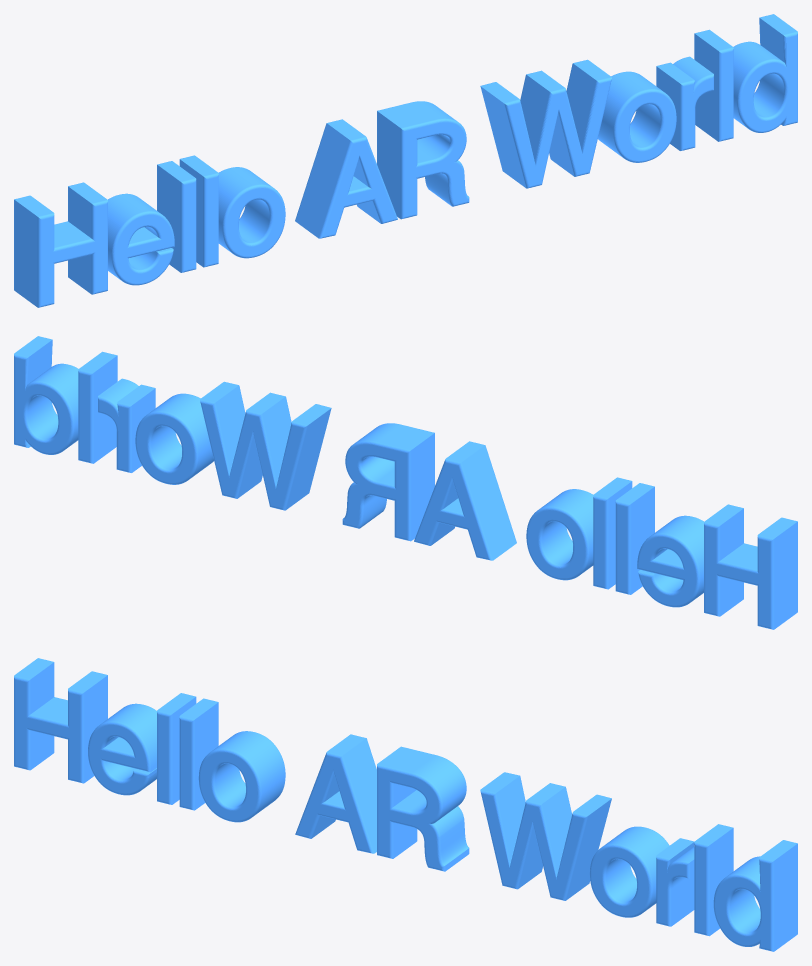
Rendered from label-Hello AR World.glb.
The picture shows the model from 3 angles, top to bottom: view 1: azimuth 30°, elevation 25°; view 2: azimuth 150°, elevation 25°; view 3: azimuth 330°, elevation 25°; orthographic projection.
Parts seen in each view (by area): view 1: AnimatedText; view 2: AnimatedText; view 3: AnimatedText.
Part boxes in pixels (bbox=[...]): AnimatedText: bbox=[14, 14, 797, 307]; AnimatedText: bbox=[14, 336, 797, 629]; AnimatedText: bbox=[14, 658, 797, 951].
Bounding box in the file's own units: 4.85 × 0.5688 × 0.2905.
